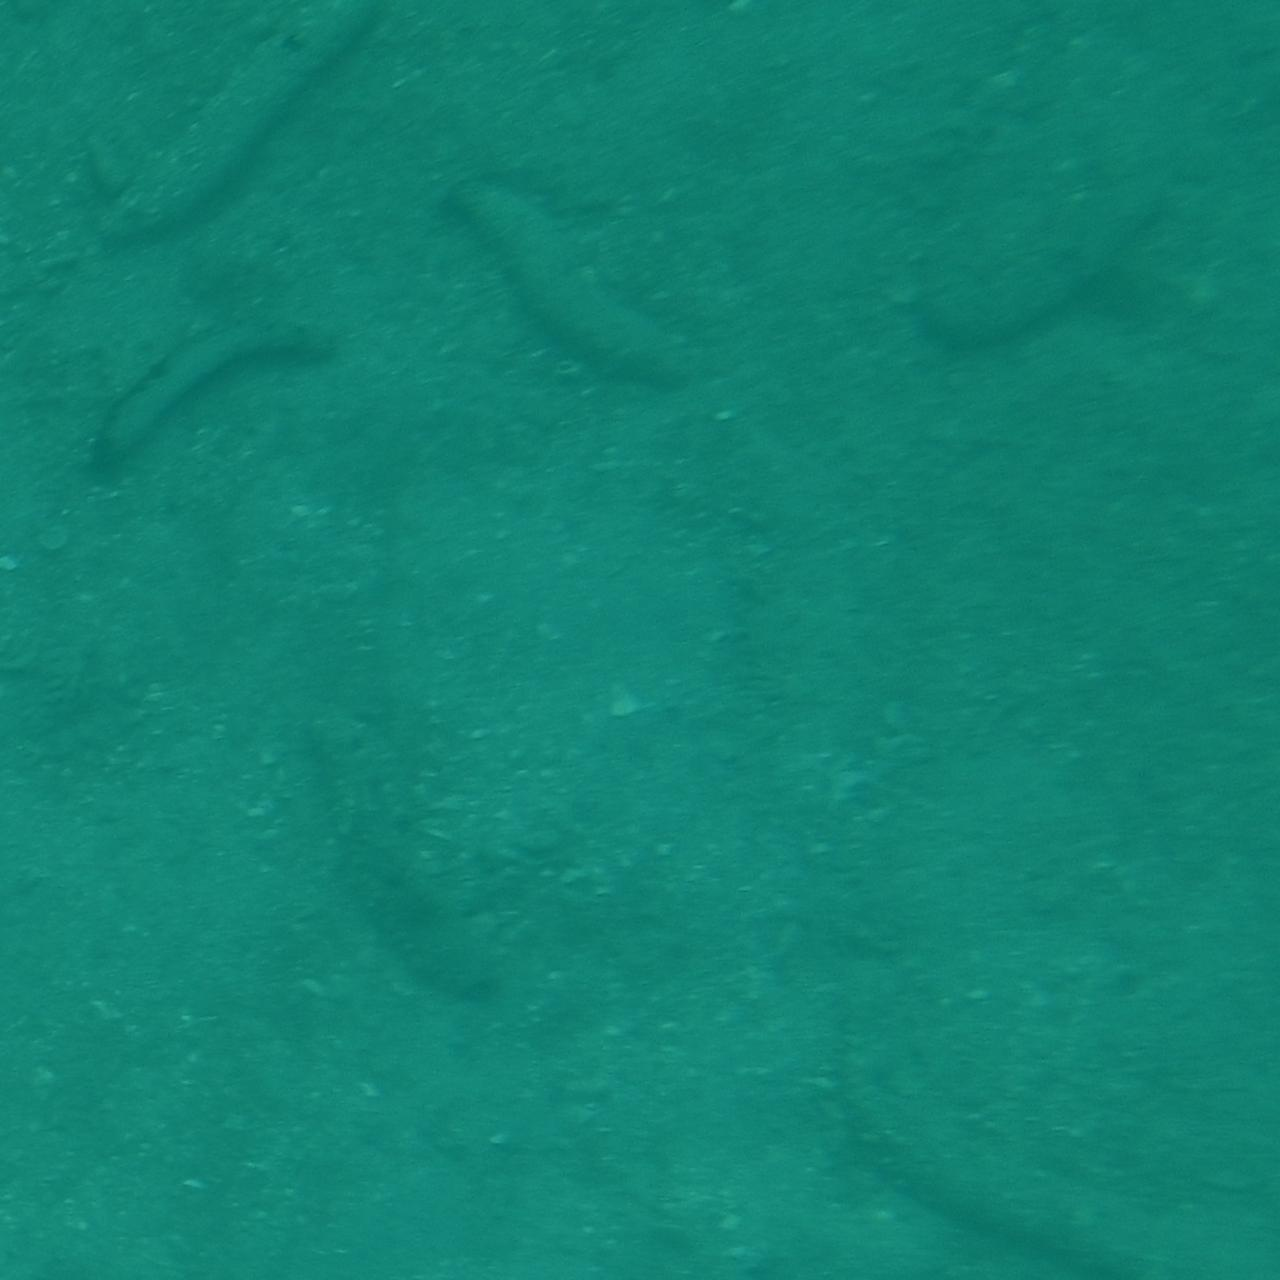Holothuria tubulosa: (794, 1021, 1219, 1280), (256, 652, 538, 1019), (104, 0, 406, 272), (440, 172, 714, 392), (924, 175, 1201, 381), (72, 309, 363, 481)
